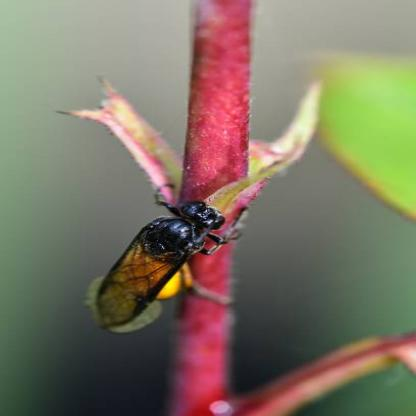sawfly: (80, 179, 253, 342)
